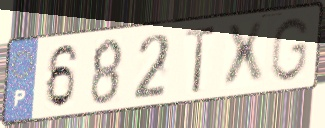2: (132, 31, 173, 103)
6: (43, 43, 79, 112)
8: (88, 37, 126, 108)
G: (267, 15, 312, 84)
T: (182, 24, 219, 97)
X: (223, 18, 266, 92)
